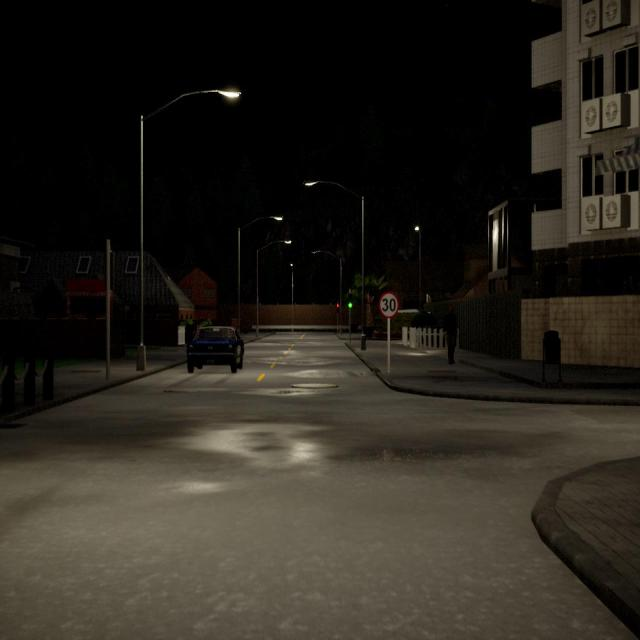Pedestrian: (442, 306, 458, 364)
Traffic_Signs: (378, 292, 398, 318)
Vehicle: (186, 324, 245, 375)
traffic_light: (104, 251, 116, 295), (348, 293, 354, 310), (336, 301, 340, 313)
